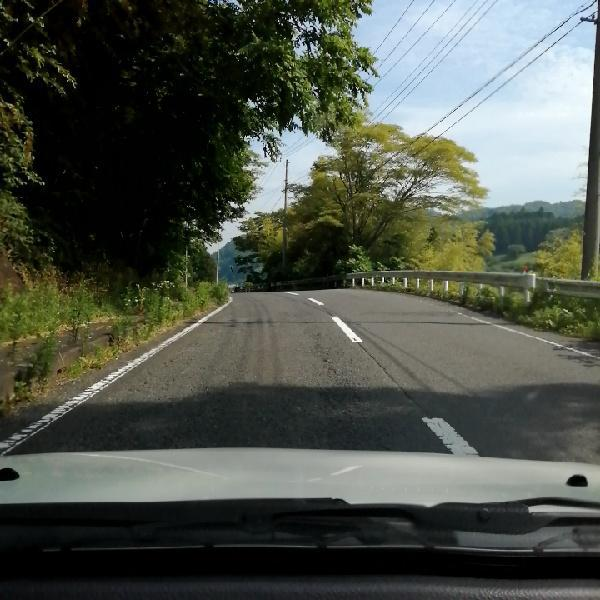D00: (307, 330, 348, 385)
